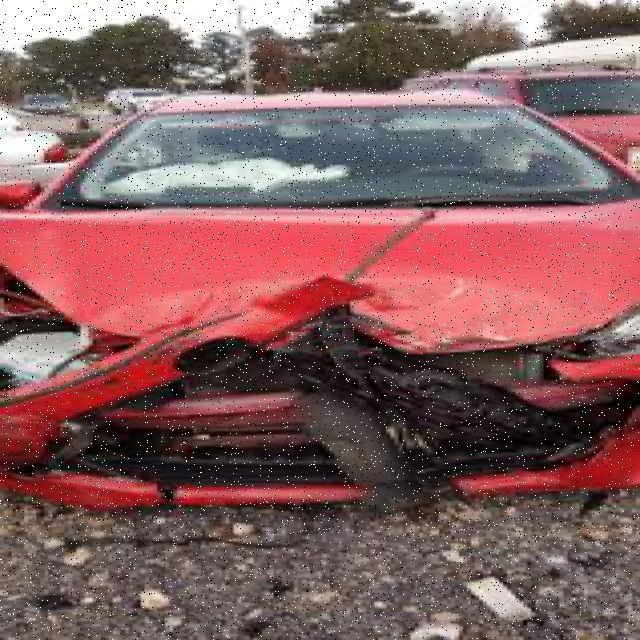bonnet-dent: (8, 193, 636, 332)
front-bumper-dent: (0, 332, 636, 513)
